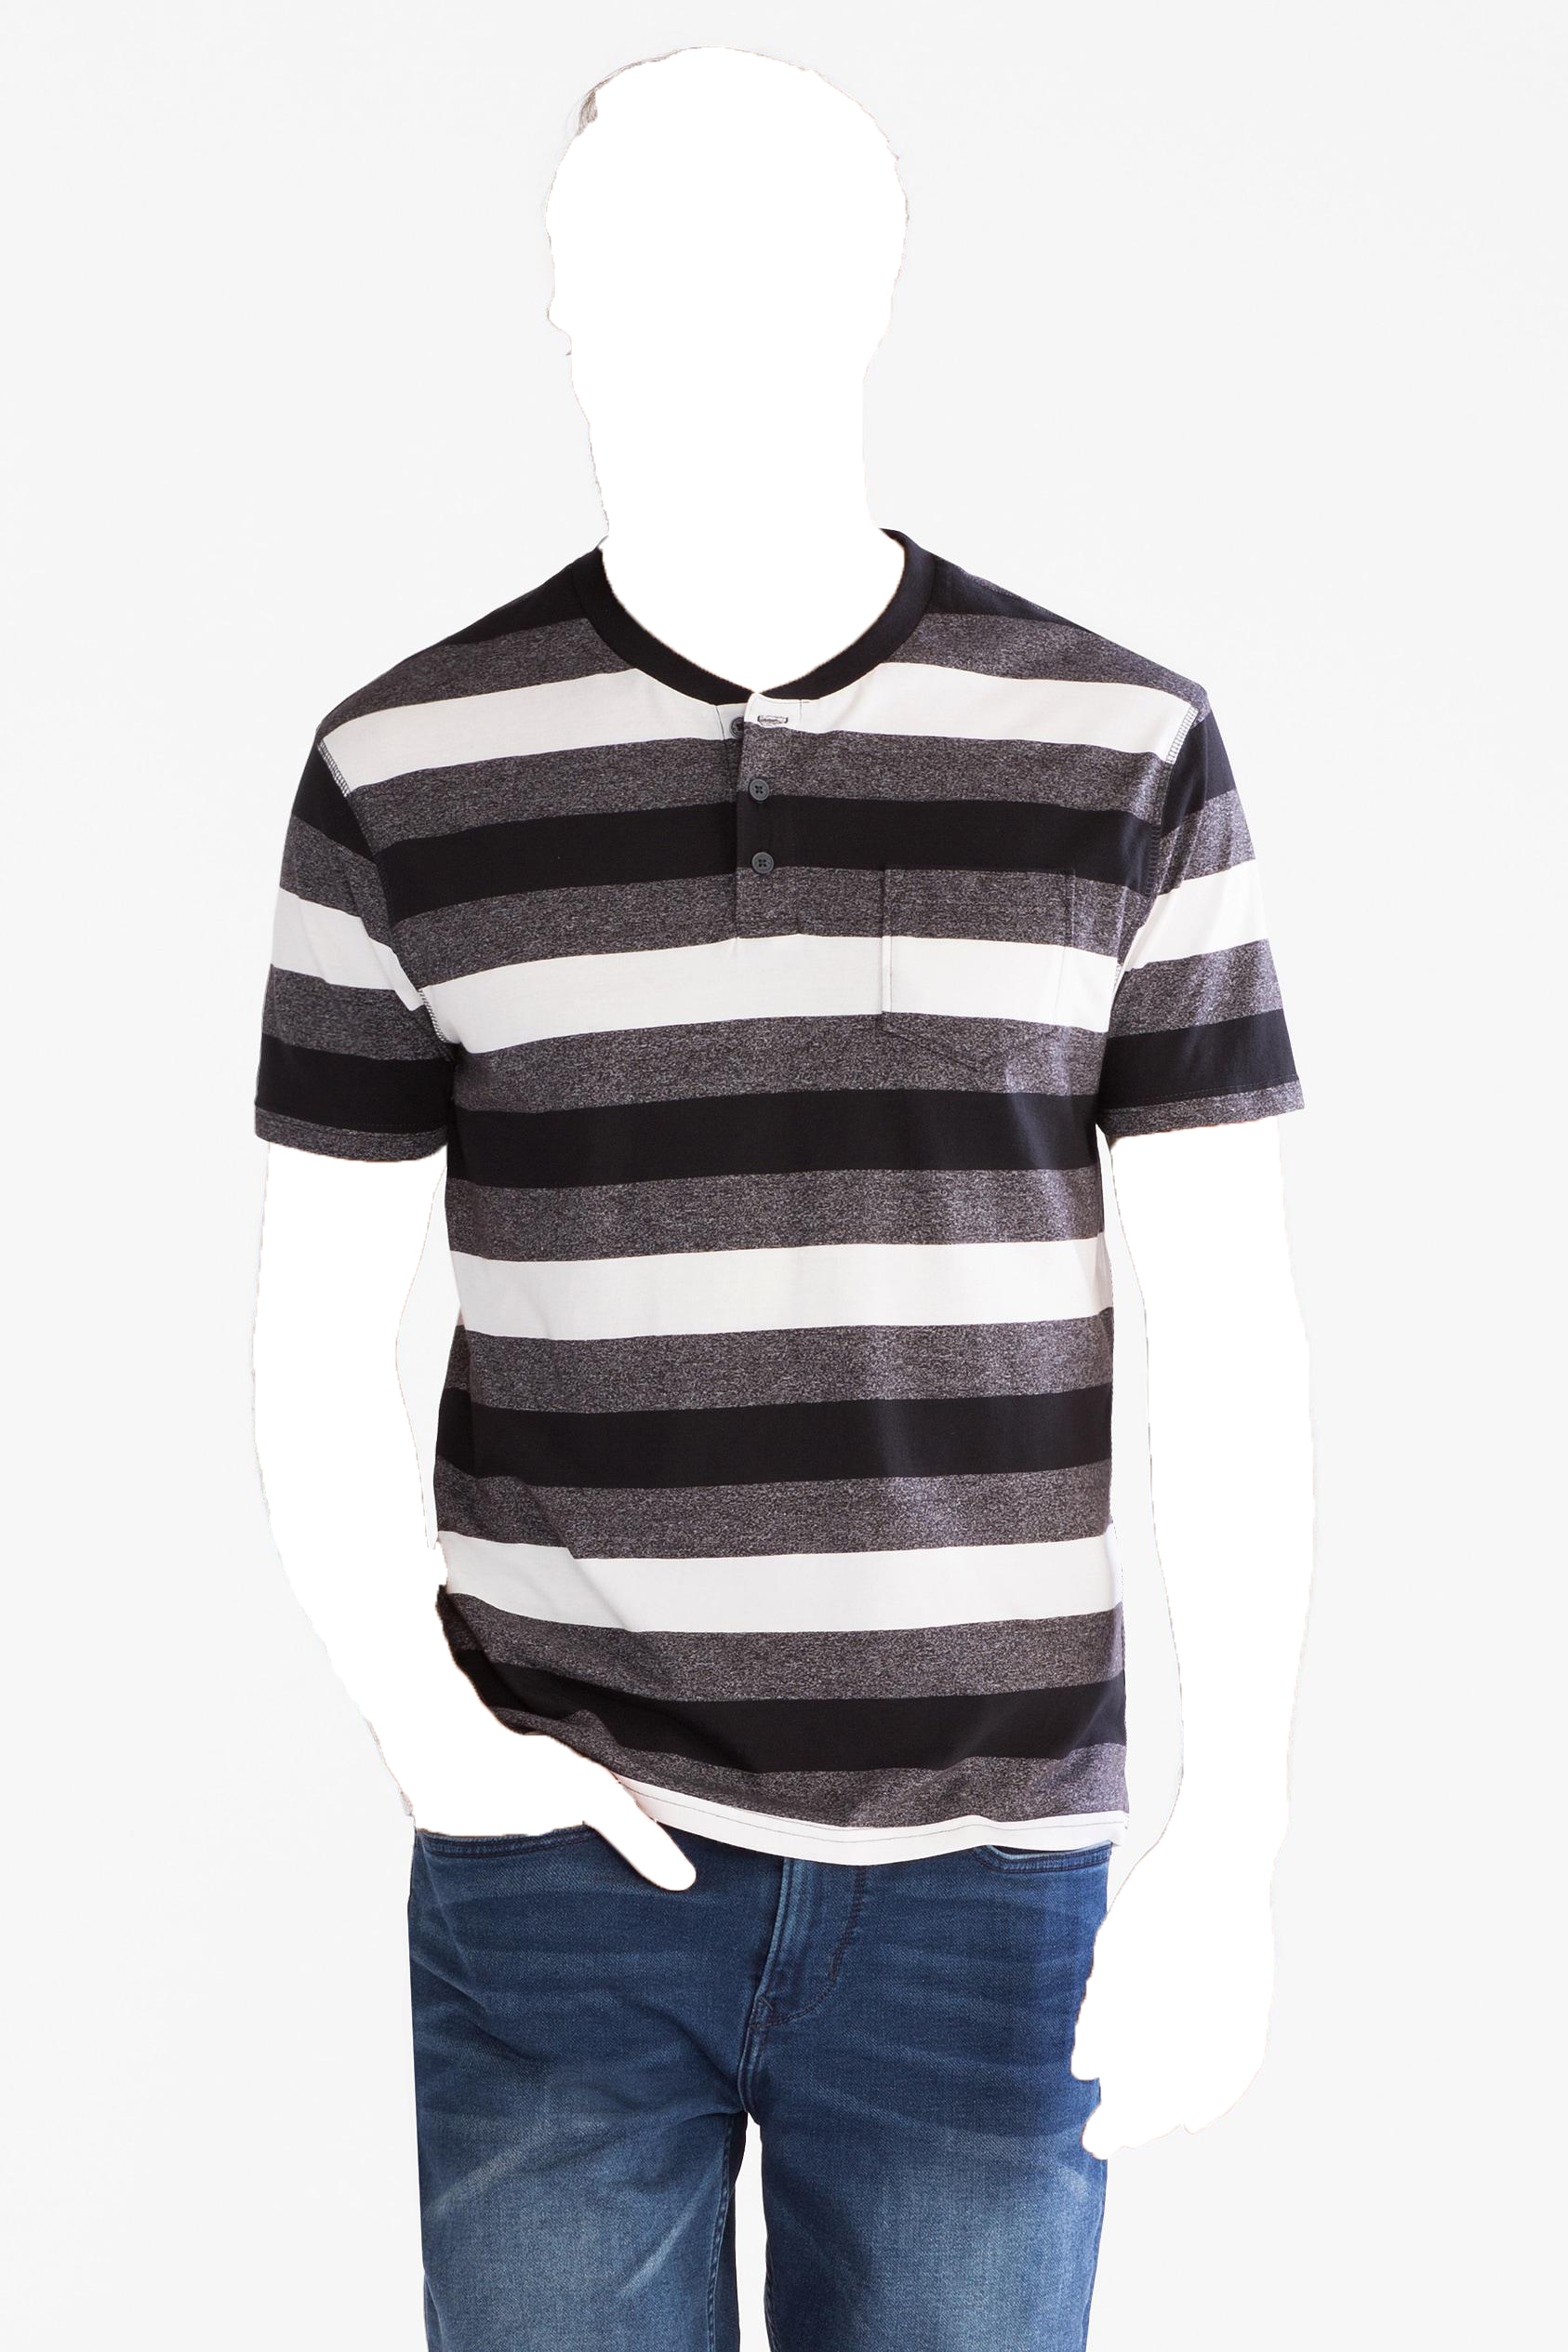teeshirt: (227, 542, 1328, 1865)
